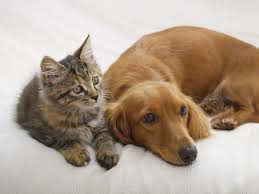cat: (18, 40, 118, 170)
dog: (103, 23, 259, 168)
